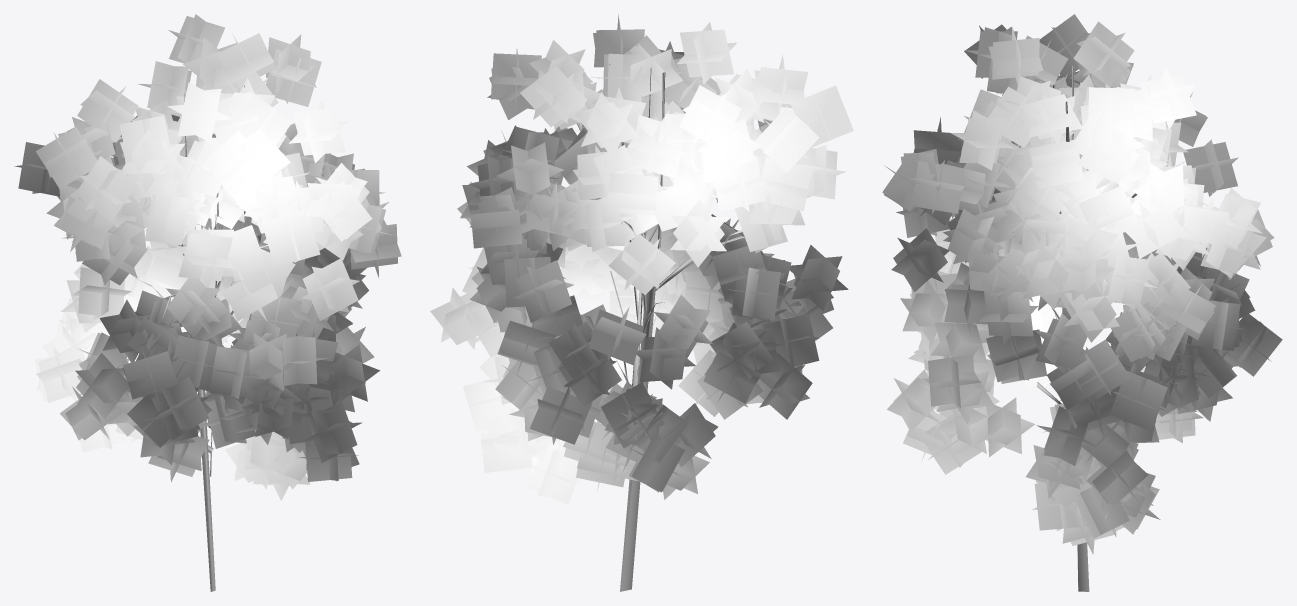
Rendered from Tree1_LOD2.fbx.
3 views of the same model, side by side, from view 1: azimuth 30°, elevation 25°; view 2: azimuth 150°, elevation 25°; view 3: azimuth 270°, elevation 25° (orthographic). The views are drawn at different scales.
Parts seen in each view (by area): view 1: tree.002; view 2: tree.002; view 3: tree.002.
Boxes of the visible parts, x1=… form: tree.002: x1=14, y1=14, x2=401, y2=591; tree.002: x1=430, y1=14, x2=853, y2=591; tree.002: x1=882, y1=14, x2=1282, y2=591.
Bounding box in the file's own units: 5.34 × 5.47 × 8.06.
